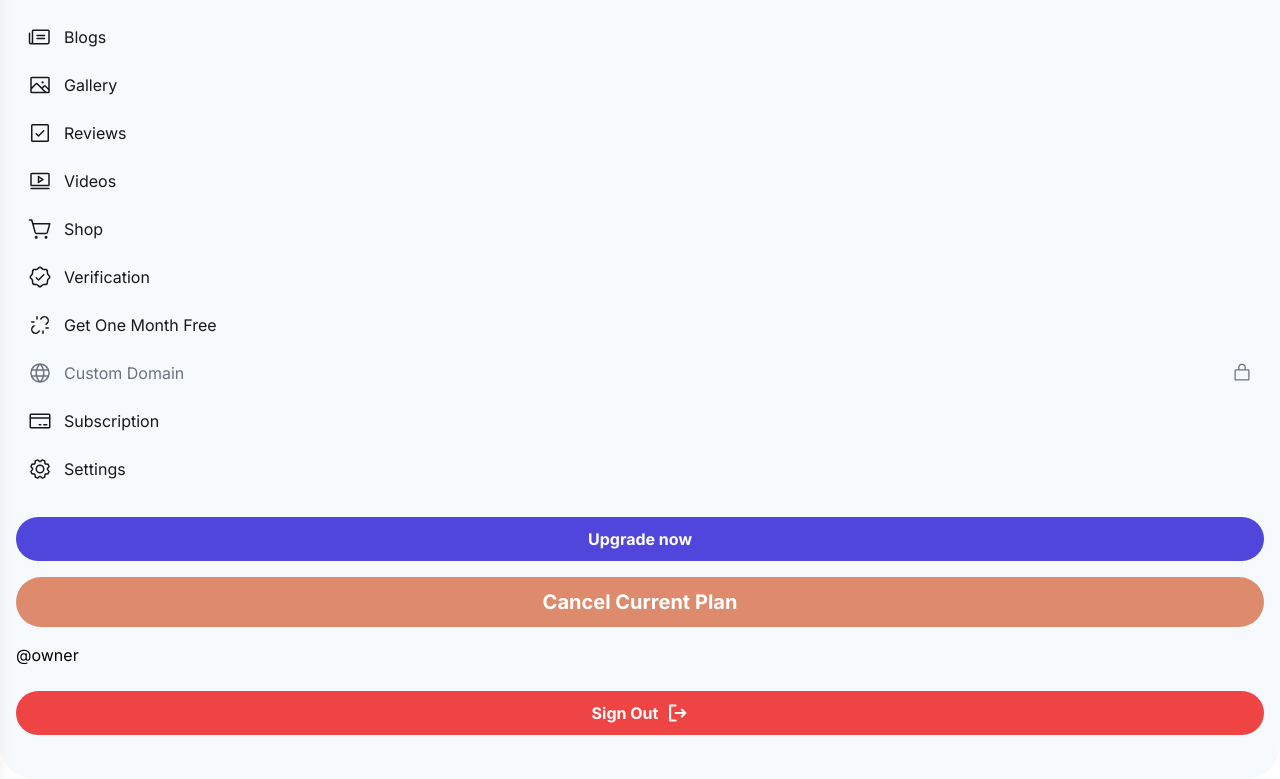
Test: Sidebar subscription downgrade › cancels without deleting the subscription
The image size is (1280, 779).
(page scrolled)
Expected: the link "@owner" is shown, [16,643,79,667]
Click the button "Cancel Current Plan".
click(640, 602)  # box [16,577,1264,627]
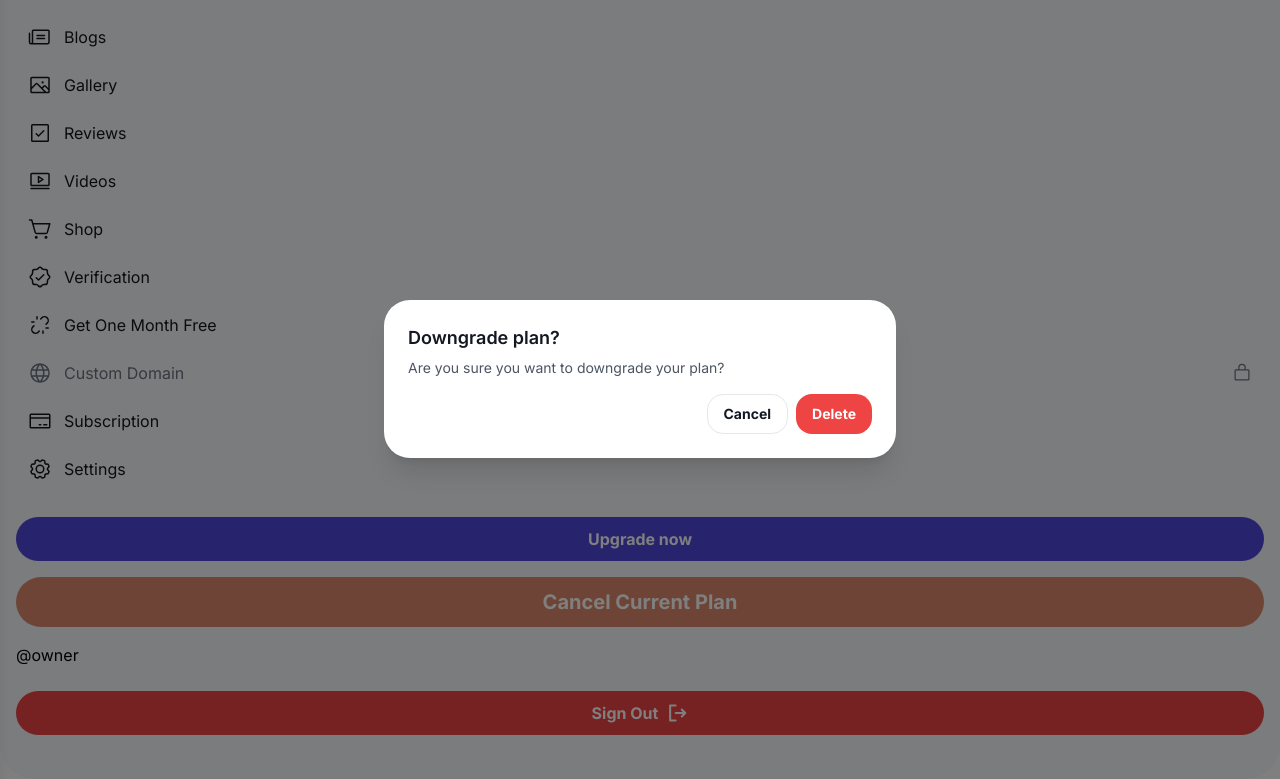
Expected: the dialog "Downgrade plan?" is shown, [384,300,896,458]
Click the button "Cancel".
click(747, 414)  # box [706,394,788,434]
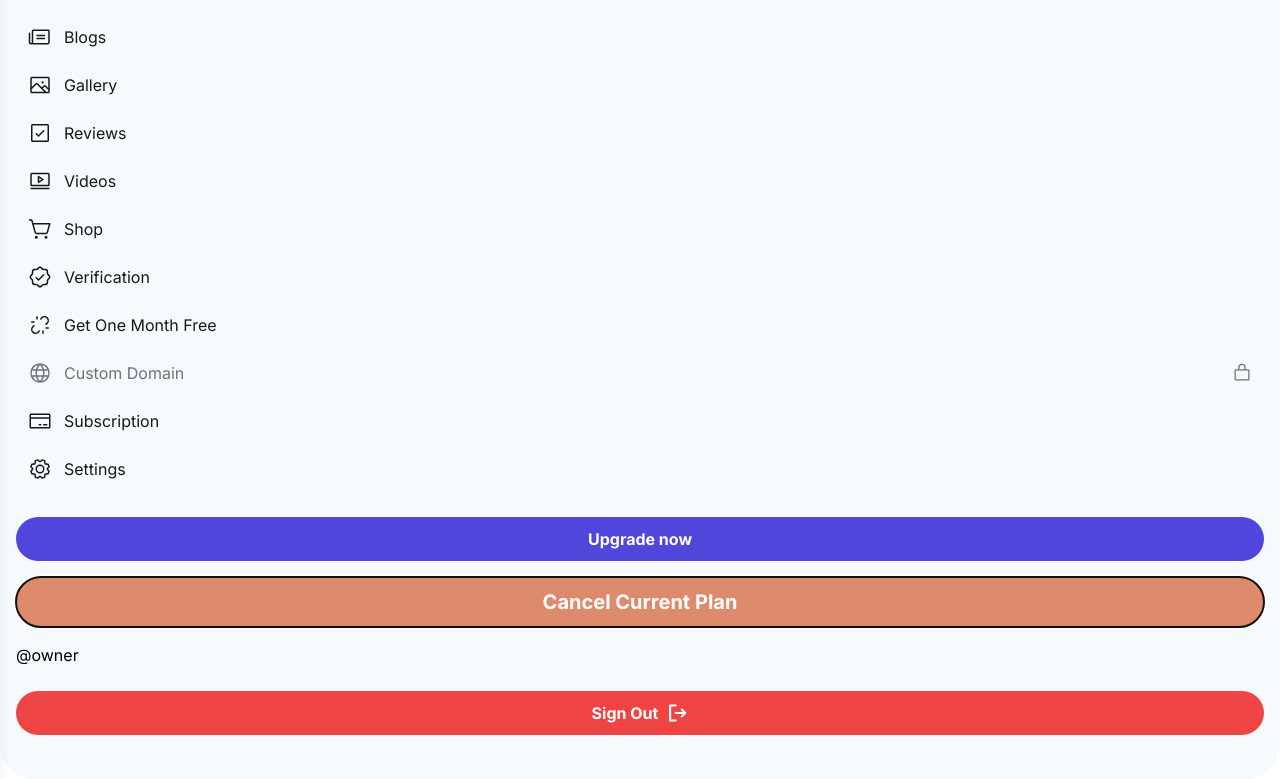
Expected: the heading "Downgrade plan?" is gone
